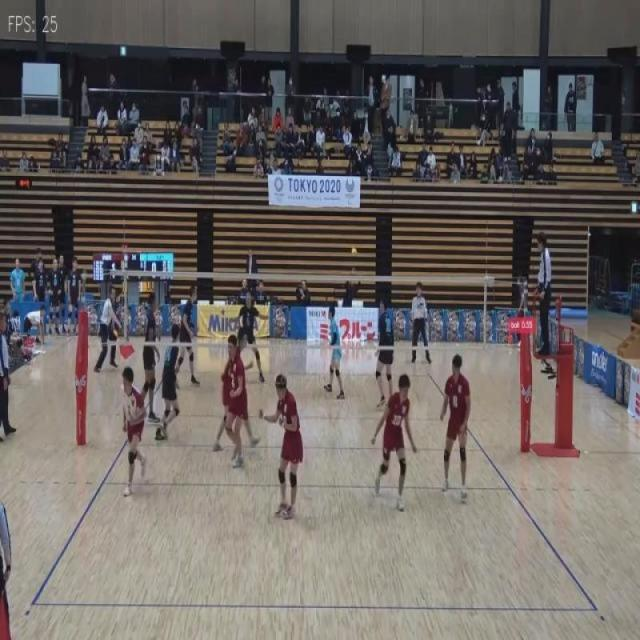volleyball: (351, 247, 357, 258), (113, 329, 119, 338)
